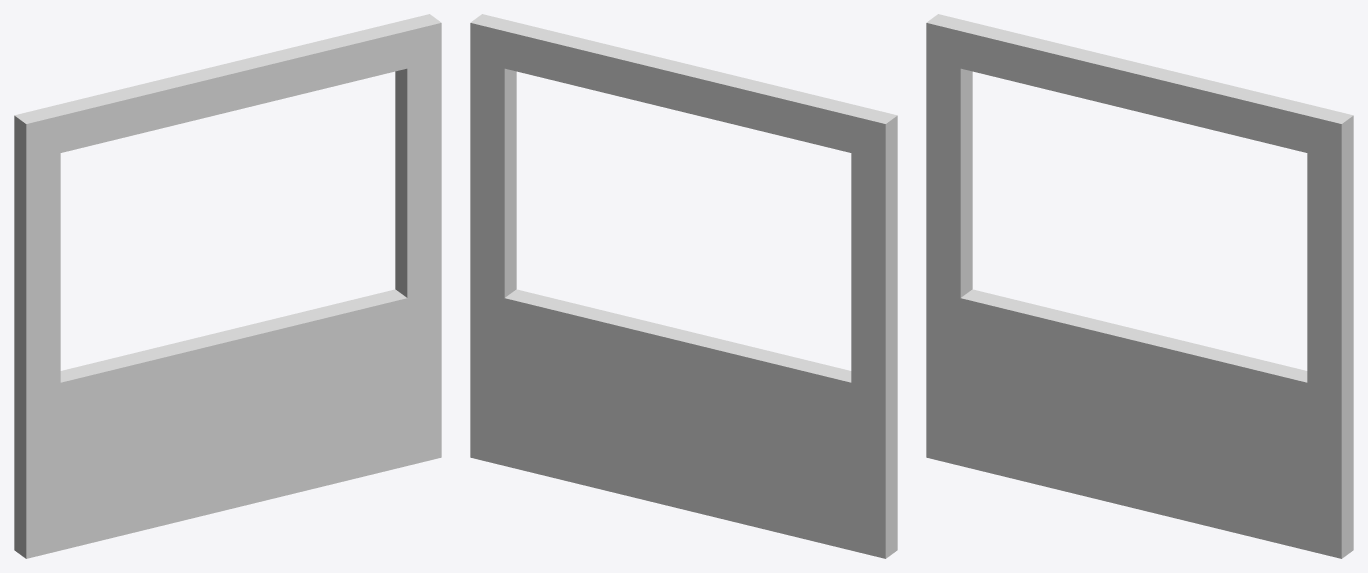
Rendered from PlainWindowframe.glb.
3 renders of one model, left to right at view 1: azimuth 30°, elevation 25°; view 2: azimuth 150°, elevation 25°; view 3: azimuth 330°, elevation 25°, orthographic.
Parts seen in each view (by area): view 1: PlainWindowframe; view 2: PlainWindowframe; view 3: PlainWindowframe.
Boxes of the visible parts, x1,y1,x2,y2 form: PlainWindowframe: (14,14,441,558); PlainWindowframe: (470,14,897,558); PlainWindowframe: (926,14,1353,558).
Size of the model in its own units: 2 by 2 by 0.1.
1 material, 1 textured.
